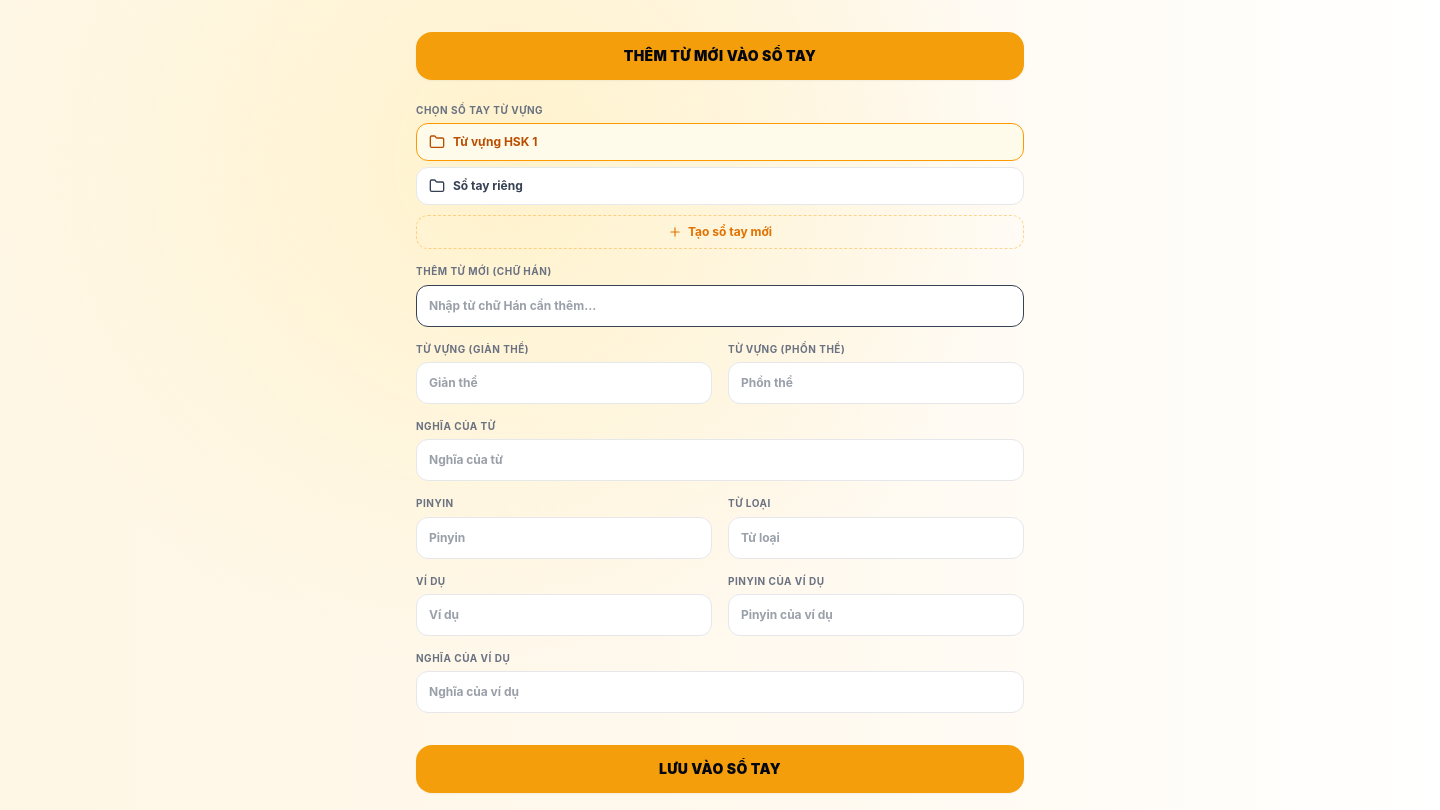
Test case: AddWordForm › autofills fields when searching a dictionary word
This screenshot has width=1440, height=810.
expect the button "Từ vựng HSK 1" is shown: met, box x1=416 y1=123 x2=1024 y2=161
Type "爱" into the field with placeholder "Nhập từ chữ Hán cần thêm...". click: [720, 306]
box: x1=416 y1=285 x2=1024 y2=327
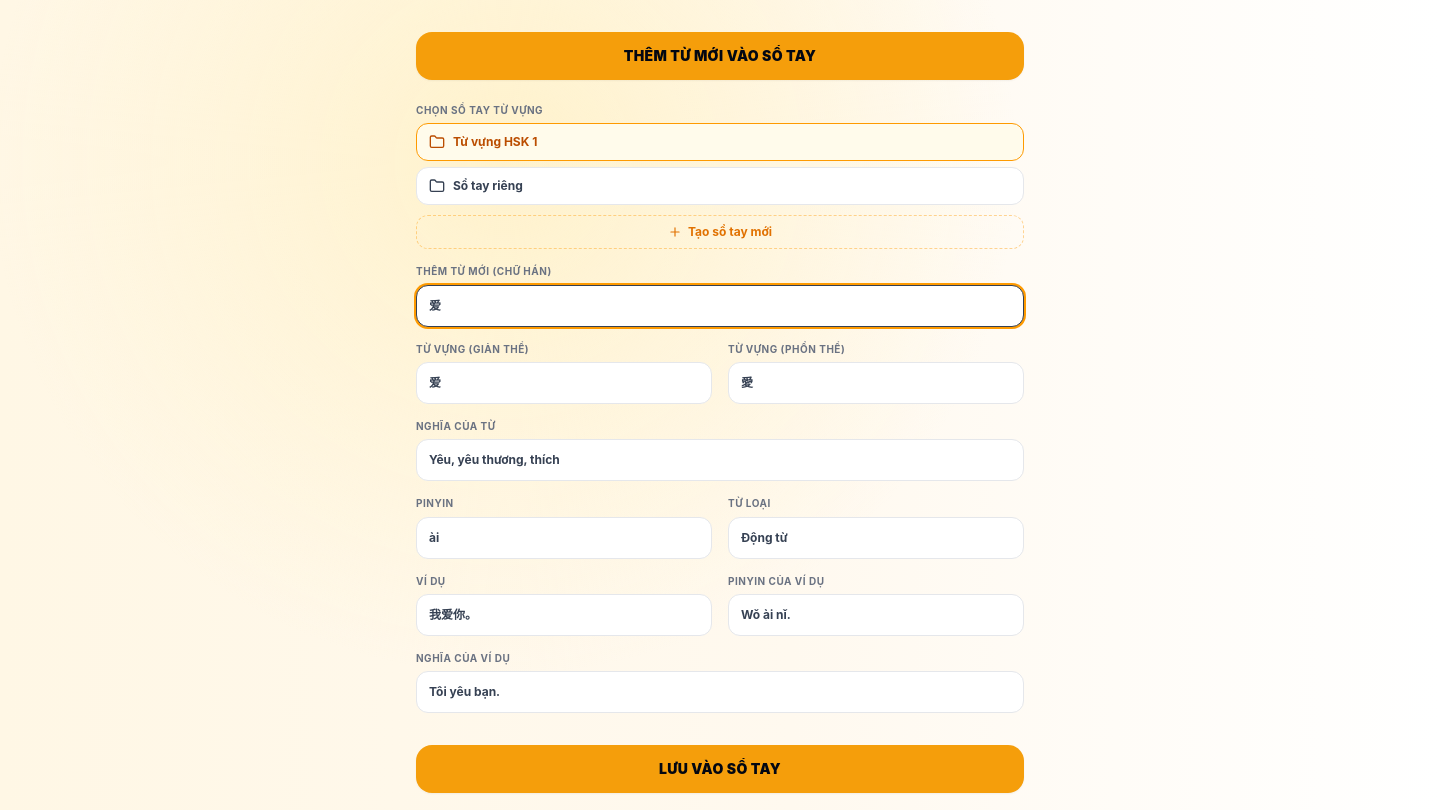
expect the field showing "愛" below "Từ vựng (Phồn thể)" is shown: met, box x1=728 y1=362 x2=1024 y2=404
expect the field showing "Yêu, yêu thương, thích" below "Nghĩa của từ" is shown: met, box x1=416 y1=439 x2=1024 y2=481
expect the 5th field showing "ài" is shown: met, box x1=416 y1=517 x2=712 y2=559
